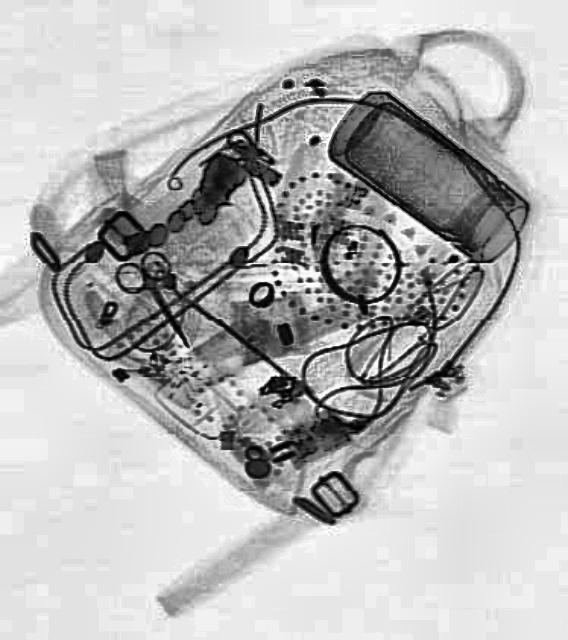Scissors: (108, 240, 211, 360)
